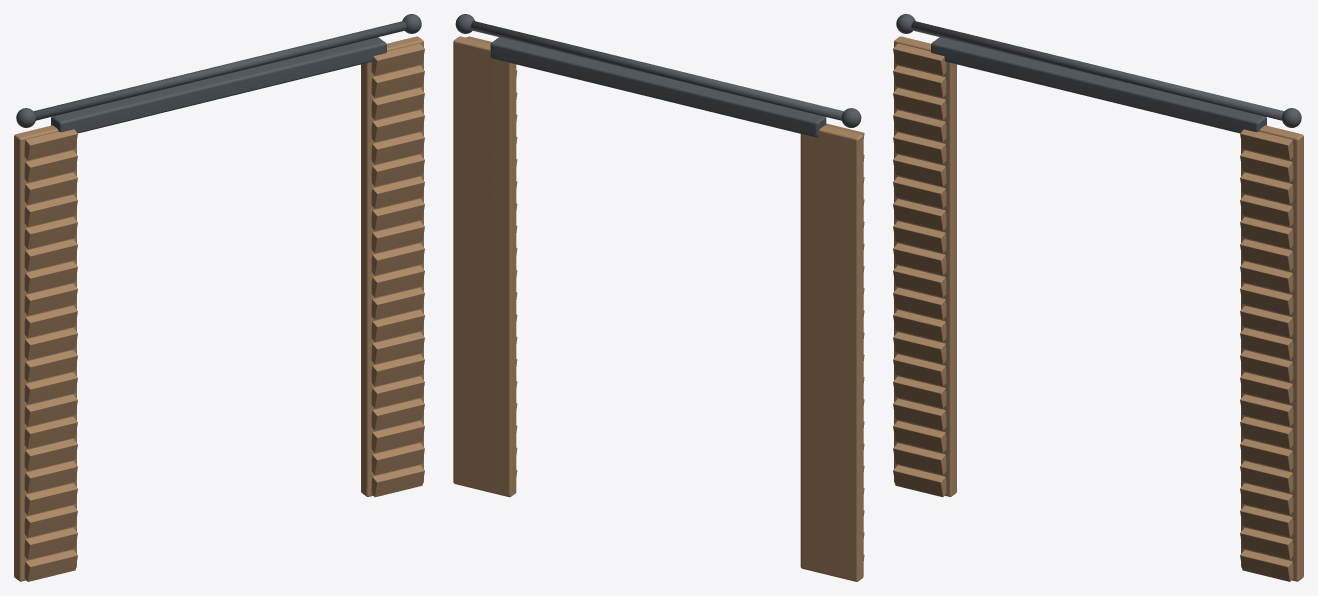
File: atelier-decorative-window-shutters.glb
3 renders of one model, left to right at view 1: azimuth 30°, elevation 25°; view 2: azimuth 150°, elevation 25°; view 3: azimuth 330°, elevation 25°, orthographic.
Parts seen in each view (by area): view 1: legs.110, metal.061; view 2: legs.110, metal.061; view 3: legs.110, metal.061.
Boxes of the visible parts, <box> form: legs.110: <box>14,36,424,581</box>; metal.061: <box>16,14,421,133</box>; legs.110: <box>453,36,864,581</box>; metal.061: <box>455,14,861,137</box>; legs.110: <box>893,36,1303,581</box>; metal.061: <box>896,14,1301,133</box>.
Size of the model in its own units: 2.1 by 2.32 by 0.1219.
